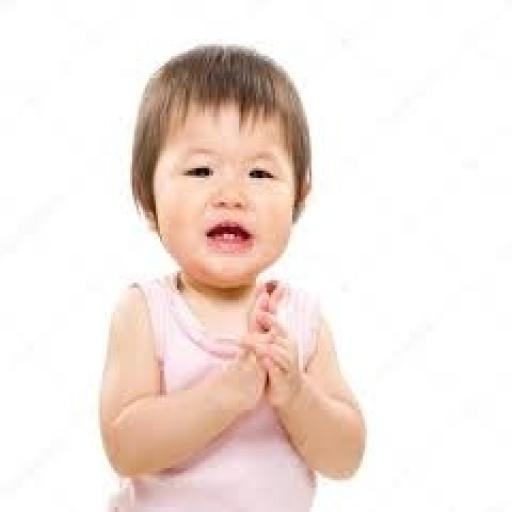clapping: (94, 42, 369, 510)
